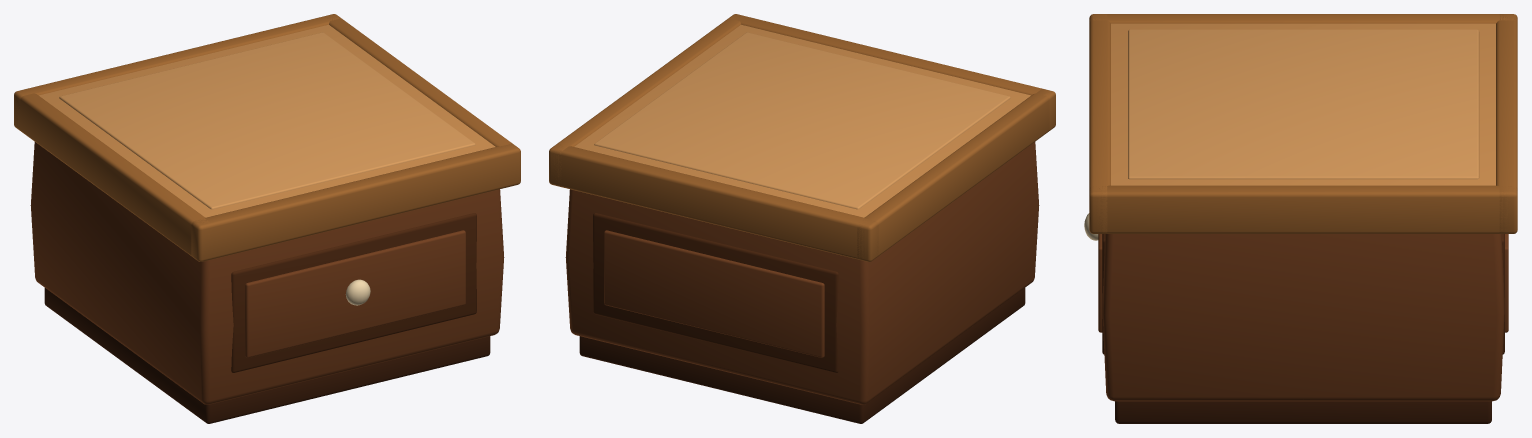
File: kitchencounter_straight_A_decorated.gltf
3 views of the same model, side by side, from view 1: azimuth 30°, elevation 25°; view 2: azimuth 150°, elevation 25°; view 3: azimuth 270°, elevation 25° (orthographic). The views are drawn at different scales.
Visible parts, largest first — view 1: CounterPlinth; view 2: CounterPlinth; view 3: CounterPlinth.
Part boxes in pixels (box(x1,y1,x2,y2)): CounterPlinth: box(14, 14, 520, 423); CounterPlinth: box(549, 14, 1055, 423); CounterPlinth: box(1084, 14, 1517, 423).
Bounding box in the file's own units: 1 × 0.625 × 1.01.
